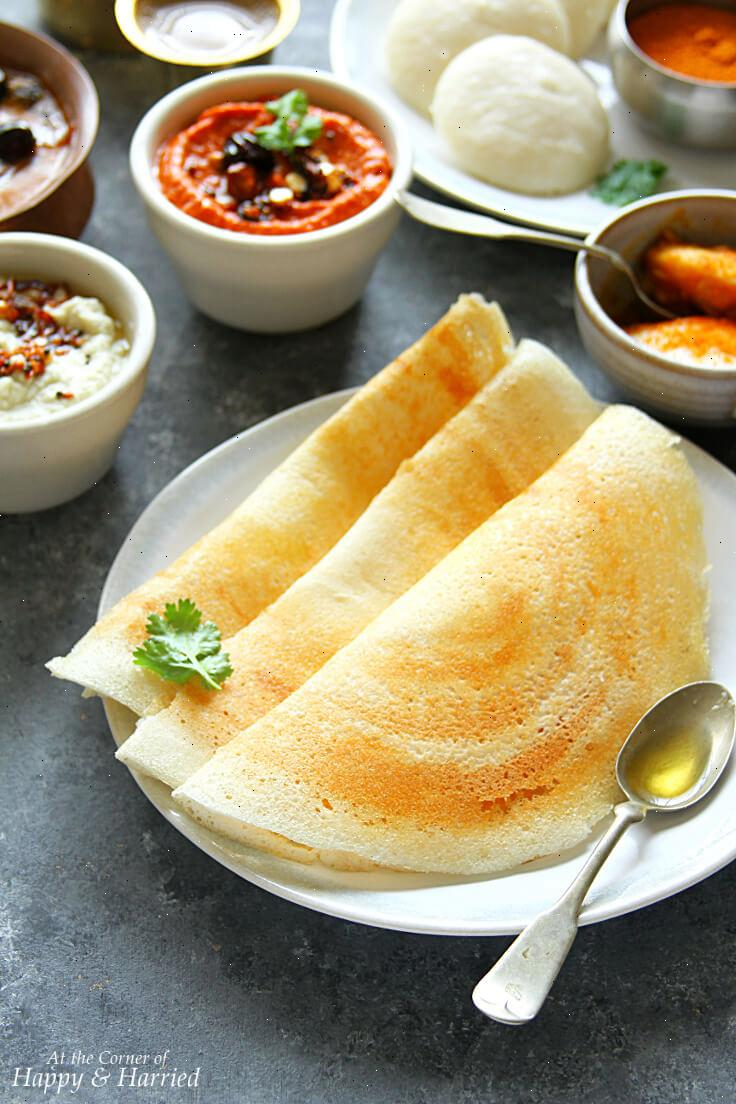dosa: (218, 421, 706, 863)
